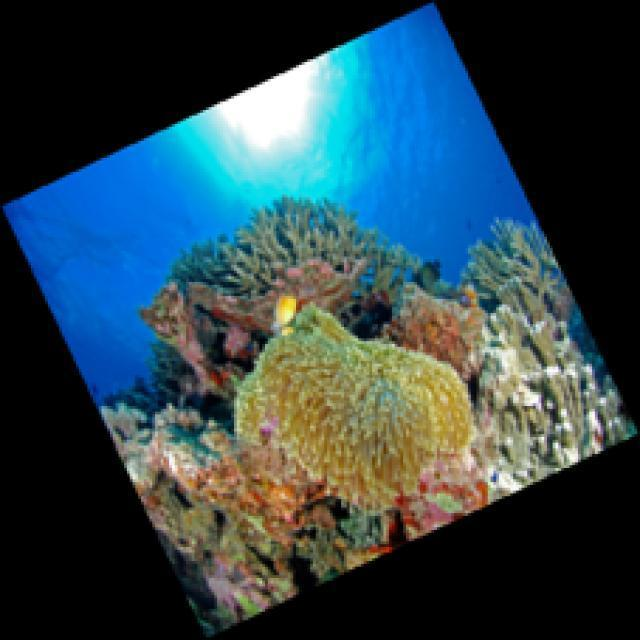Healthy: (234, 305, 476, 510), (195, 445, 320, 540), (399, 469, 498, 546)
